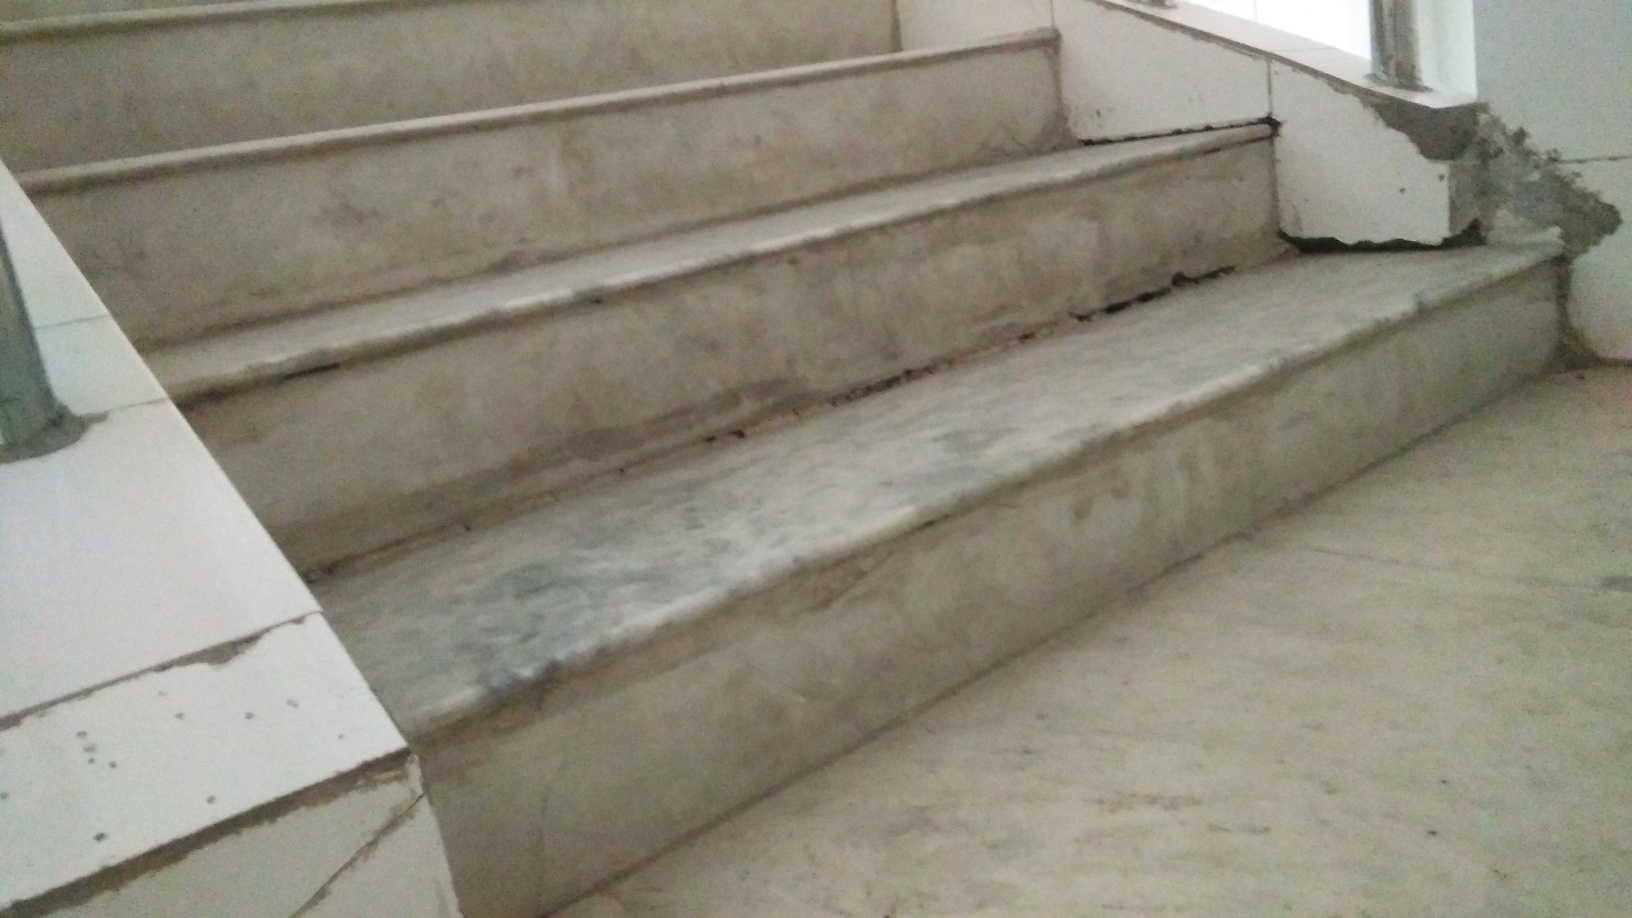stairs_up: (7, 13, 1561, 710)
